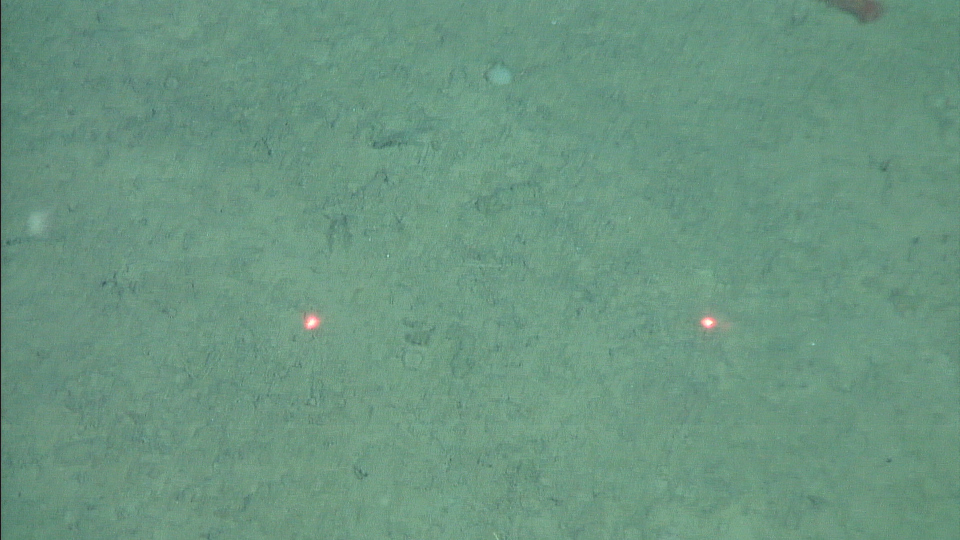PENIAGONE_SP_A: (816, 1, 883, 25)
